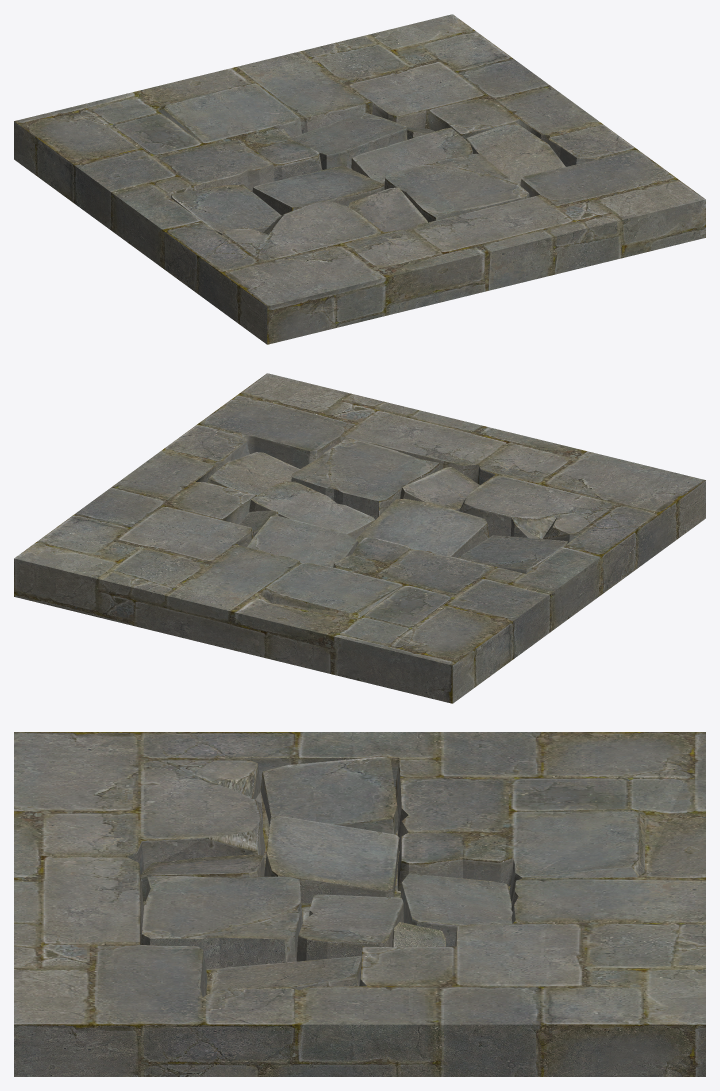
The model's file is bg_lut_lucastle_streetfloor02c_sm_psy.FBX.
The picture shows the model from 3 angles, top to bottom: view 1: azimuth 30°, elevation 25°; view 2: azimuth 150°, elevation 25°; view 3: azimuth 270°, elevation 25°; orthographic projection. The views are drawn at different scales.
Parts seen in each view (by area): view 1: bg_lut_lucastle_streetfloor02c_sm_psy; view 2: bg_lut_lucastle_streetfloor02c_sm_psy; view 3: bg_lut_lucastle_streetfloor02c_sm_psy.
Part boxes in pixels (bbox=[...]): bg_lut_lucastle_streetfloor02c_sm_psy: bbox=[14, 14, 705, 344]; bg_lut_lucastle_streetfloor02c_sm_psy: bbox=[14, 373, 705, 703]; bg_lut_lucastle_streetfloor02c_sm_psy: bbox=[14, 732, 705, 1076].
Size of the model in its own units: 384 by 36.76 by 384.
